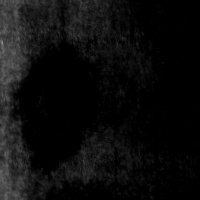patches: (19, 45, 99, 164)
